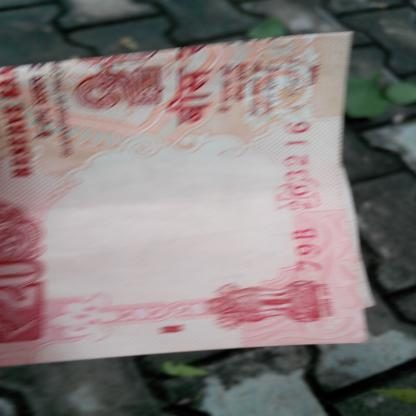Old20Front: (0, 33, 416, 367)
